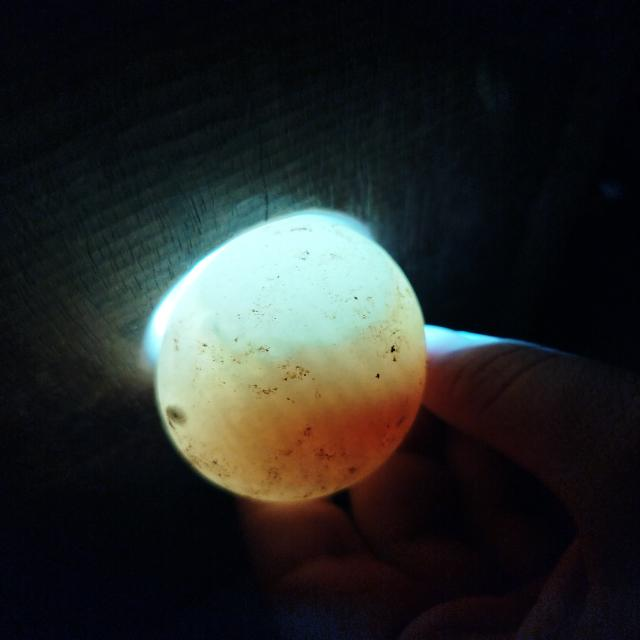Camara de Ar: (169, 220, 396, 355)
Gema Quebrada: (241, 371, 428, 492)
